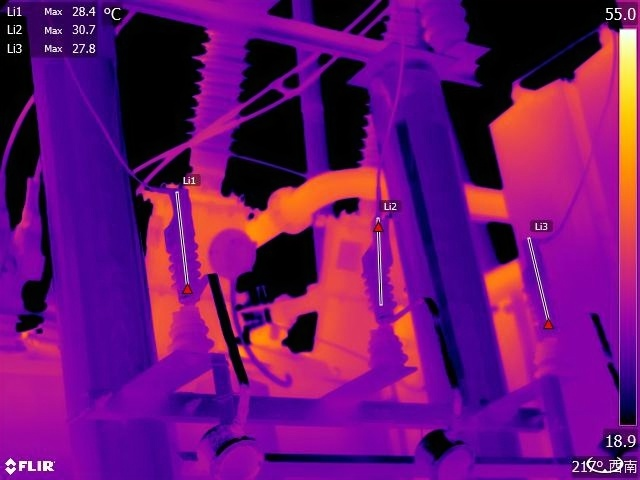clamp: (13, 168, 50, 278)
tube: (184, 1, 259, 184), (154, 187, 209, 310), (516, 233, 562, 331), (360, 230, 405, 328)
